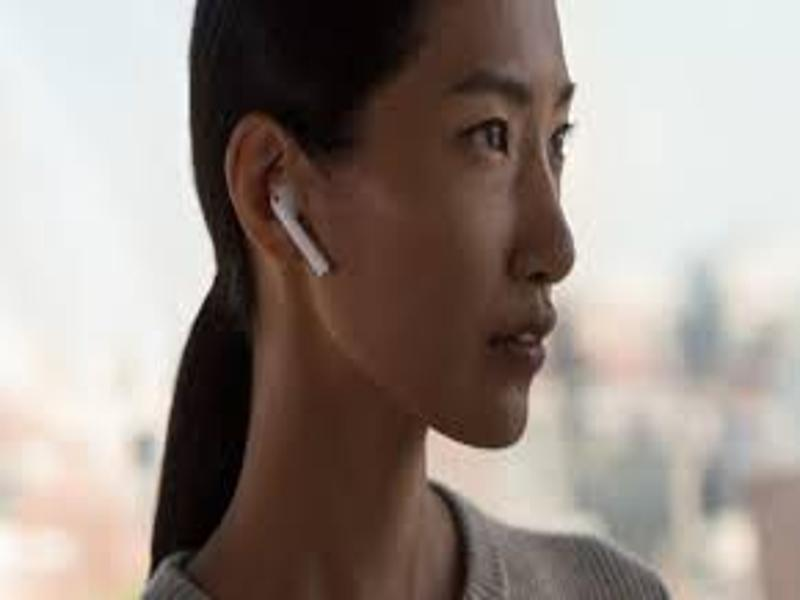headphone: (269, 179, 337, 277)
